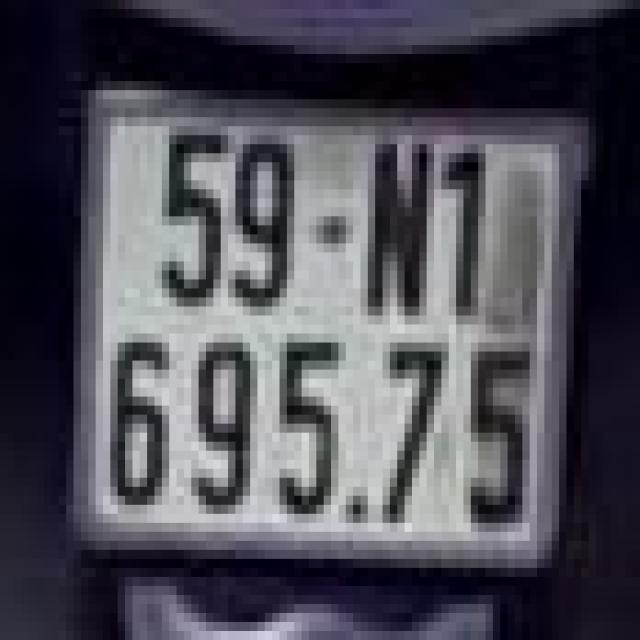1: (441, 140, 493, 329)
5: (272, 324, 346, 523), (463, 333, 537, 532), (166, 126, 224, 307)
6: (107, 333, 173, 505)
7: (372, 338, 452, 536)
9: (228, 131, 302, 311), (192, 338, 258, 518)
N: (368, 135, 434, 325)
